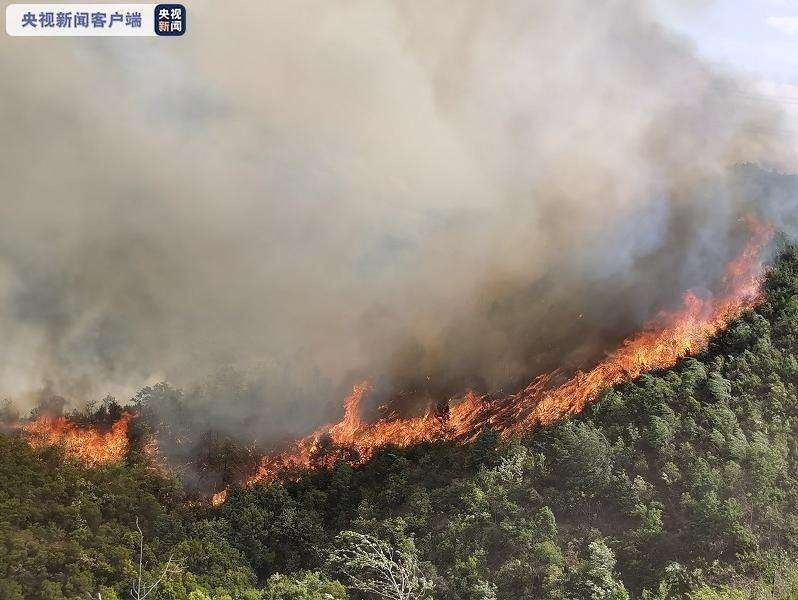fire: (202, 238, 747, 487), (5, 400, 142, 469)
